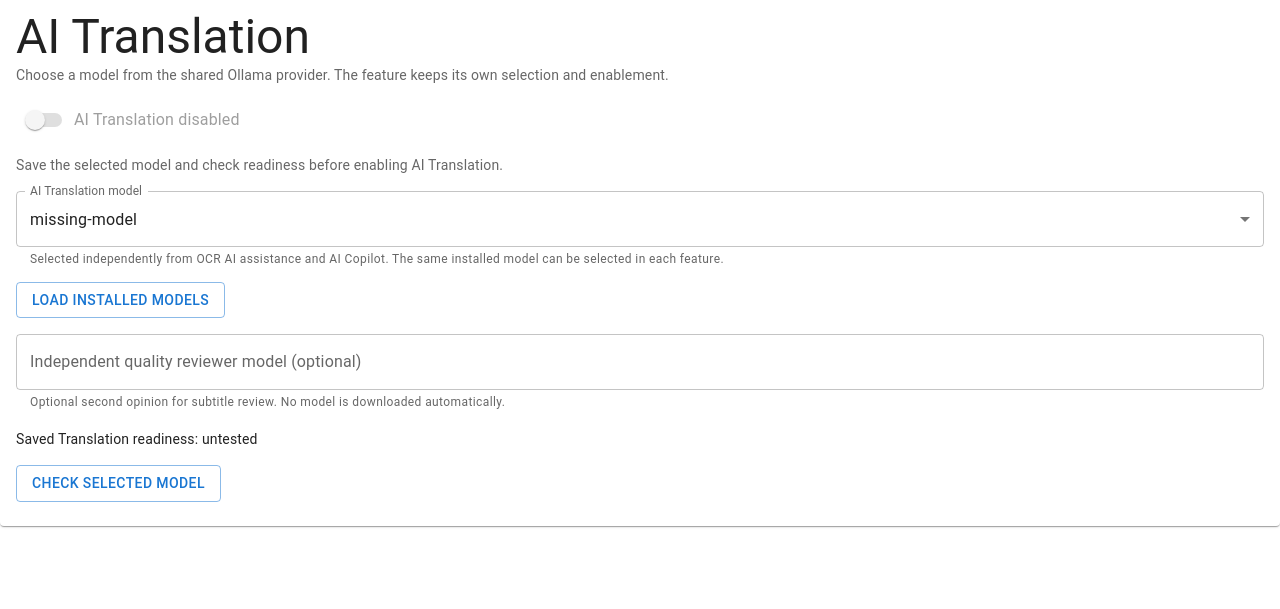
Test: AITranslationSettingsCard › requires a successful explicit readiness check before enabling and retains a missing model
The width and height of the screenshot is (1280, 609).
Expected: the switch labelled "AI Translation disabled" is disabled, [25, 110, 240, 130]
Click the button "Check selected model". click: click(118, 484)
box: [16, 465, 221, 502]
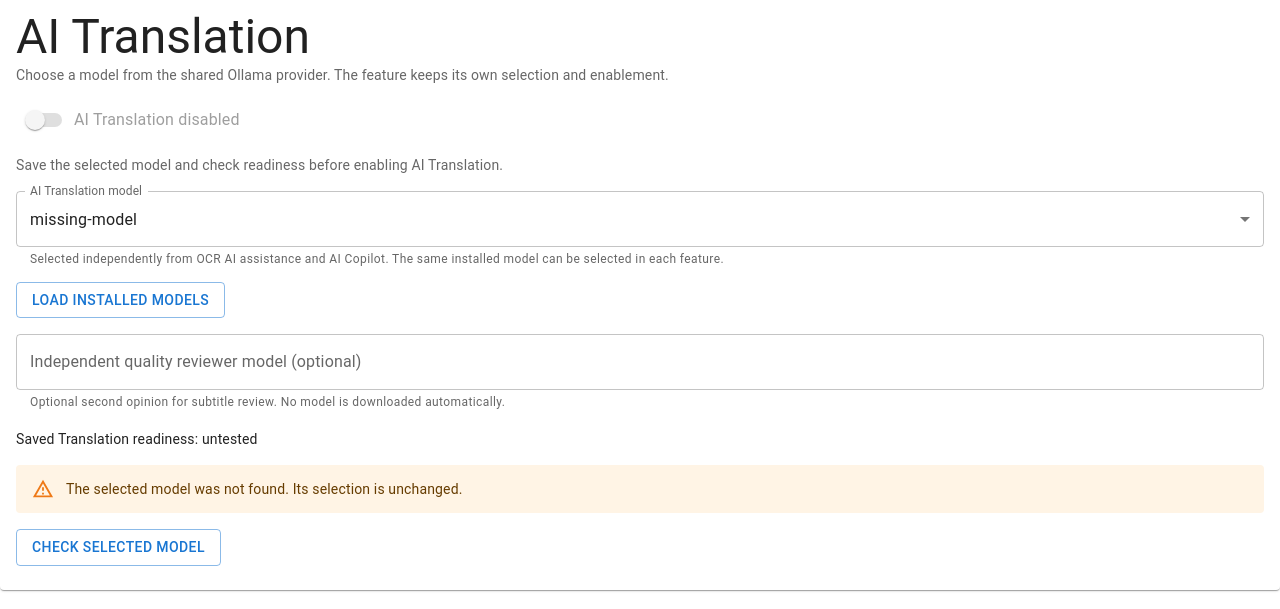
Expected: the switch labelled "AI Translation disabled" is disabled, [25, 110, 240, 130]
Now the text "selected model was not found" is shown, box [66, 481, 463, 497]
